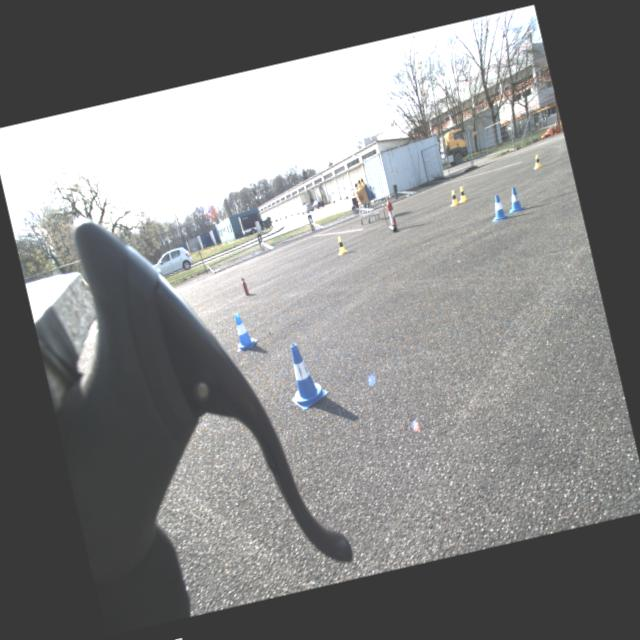blue_cone: (280, 338, 330, 412), (228, 310, 258, 351), (486, 192, 511, 222), (502, 186, 526, 213), (368, 184, 374, 195)
orange_cone: (553, 119, 557, 126)
yellow_cone: (333, 235, 348, 255), (446, 188, 459, 206), (456, 185, 468, 202), (530, 153, 542, 169), (352, 180, 360, 191), (356, 176, 364, 187), (359, 176, 366, 186)
